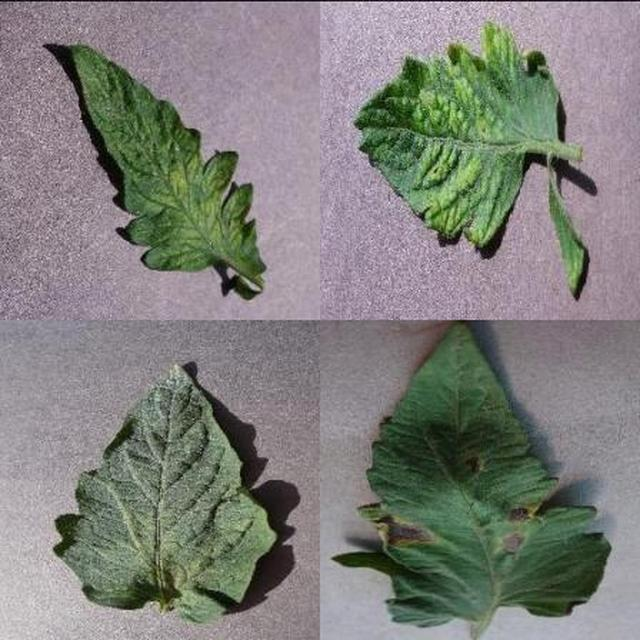Mosaic Virus Leaf: (57, 176, 640, 640)
